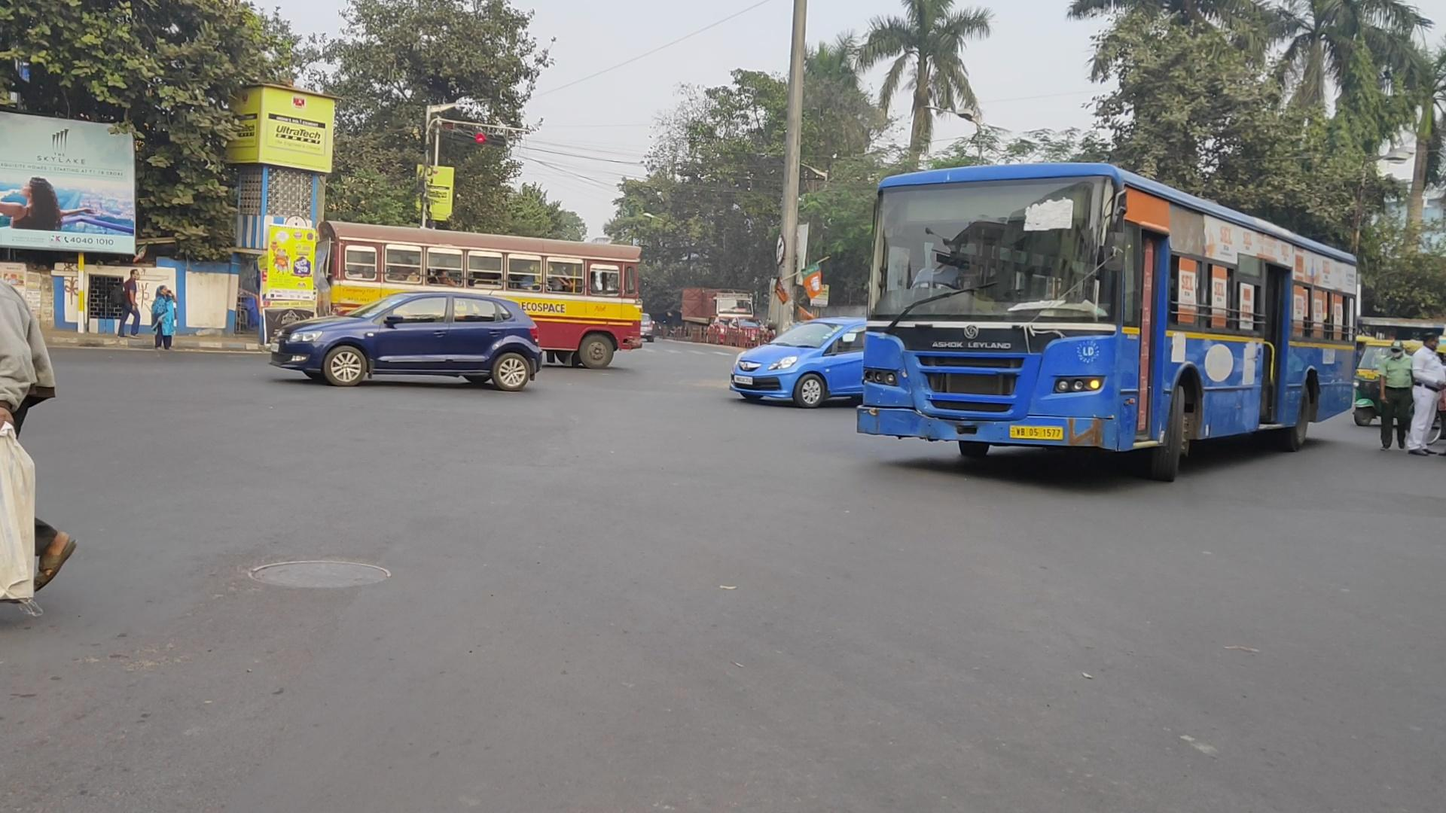Auto: (1353, 339, 1446, 427)
Bus: (856, 162, 1359, 483), (316, 218, 644, 370)
car: (269, 292, 545, 393), (728, 317, 886, 409)
